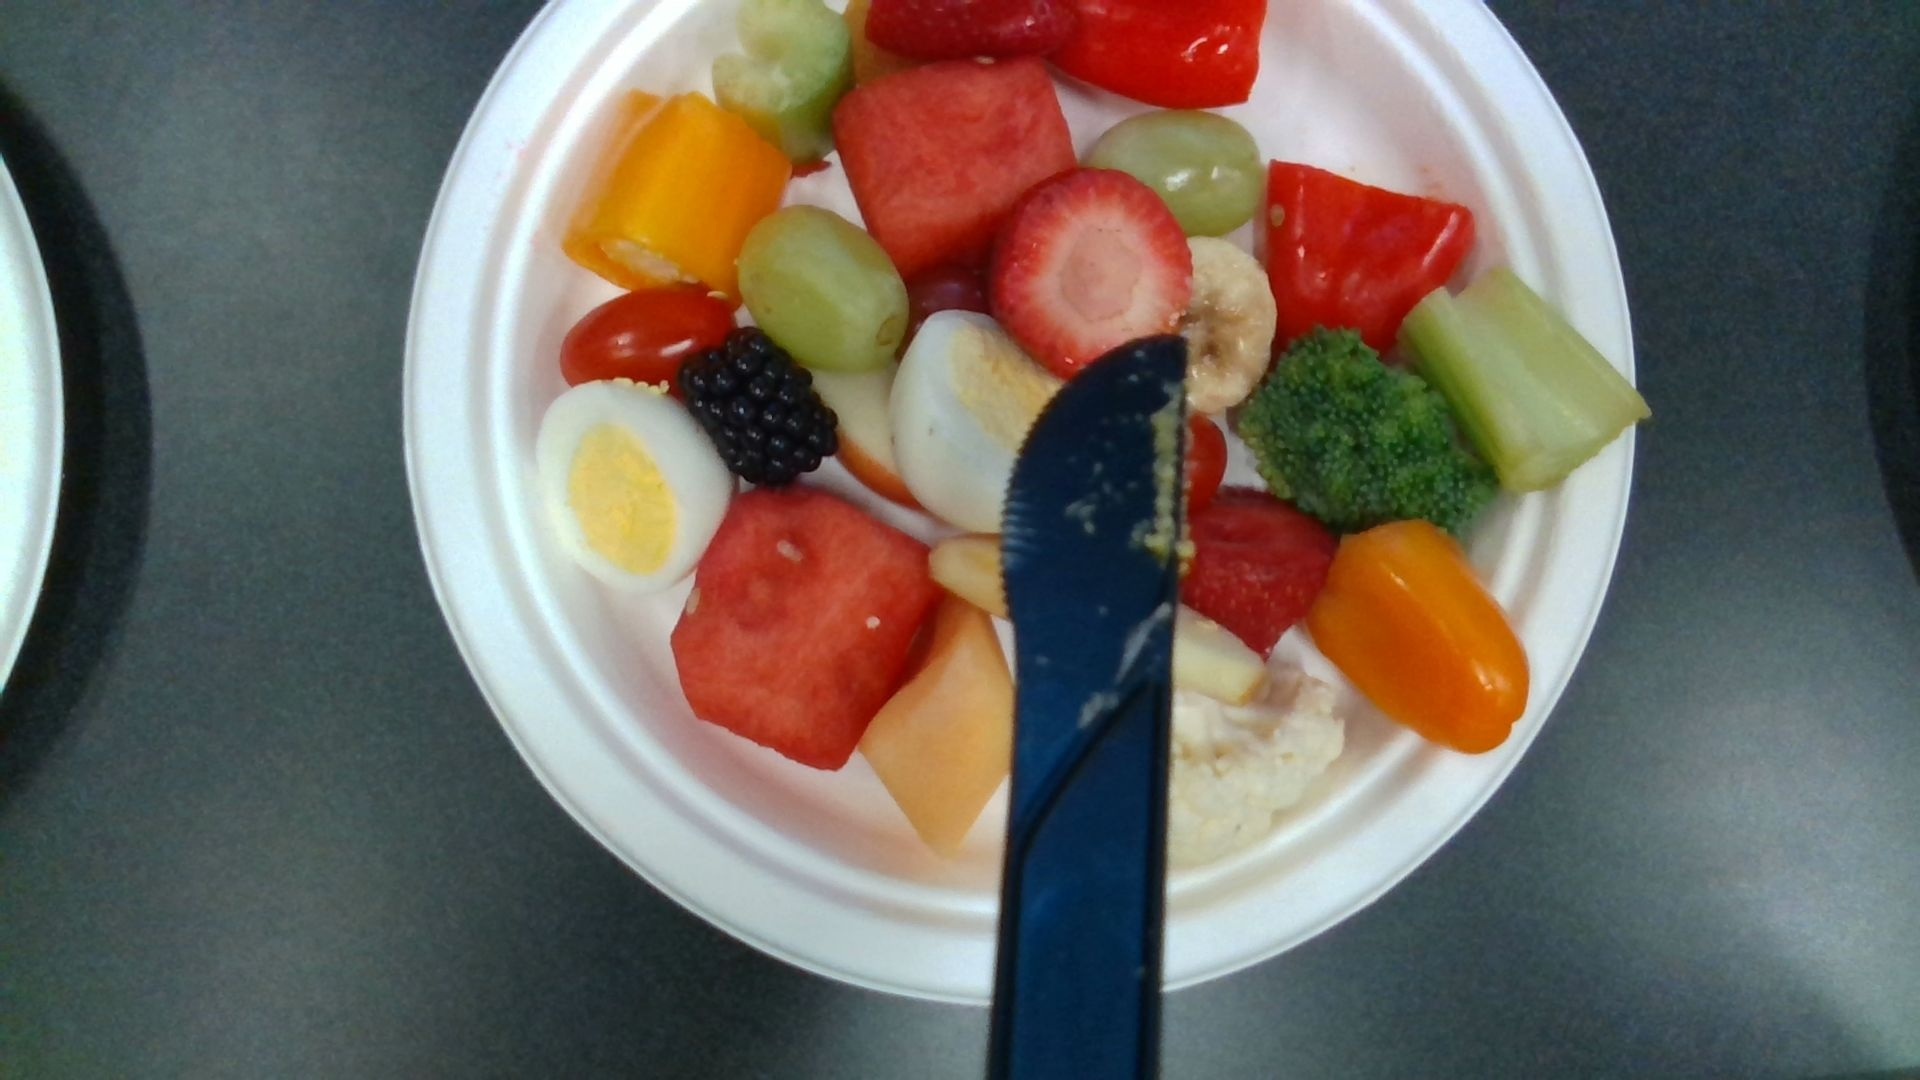apple: (927, 535, 1265, 703)
banana: (1164, 237, 1279, 410)
bell_pepper: (1315, 524, 1524, 752), (568, 95, 789, 305), (1265, 156, 1470, 363), (1054, 1, 1265, 109)
blackberry: (682, 330, 840, 485)
broccoli: (1237, 336, 1482, 531)
cantalope: (860, 605, 1009, 858)
cauliflower: (1160, 666, 1342, 865)
celery: (1404, 272, 1650, 491), (713, 1, 851, 156)
cherry_tomato: (564, 290, 735, 388)
egg: (539, 381, 731, 585), (895, 310, 1065, 535)
grape_green: (735, 206, 909, 371), (1089, 115, 1262, 241)
melon: (670, 488, 932, 773), (833, 61, 1077, 268)
strawberry: (996, 171, 1189, 376), (1182, 491, 1329, 655)
